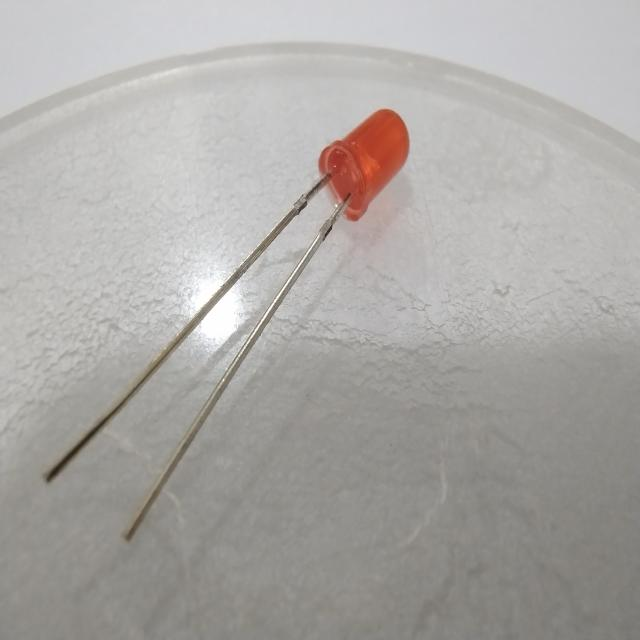red_led: (309, 101, 419, 226)
